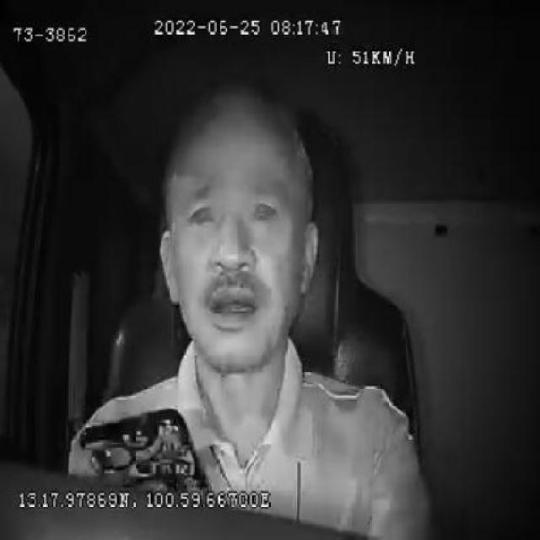phone: (78, 405, 212, 488)
